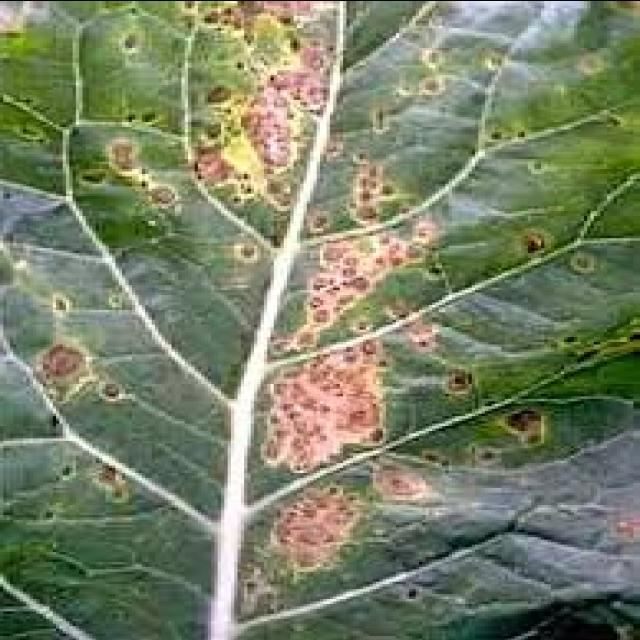bercak_daun: (245, 204, 471, 572)
